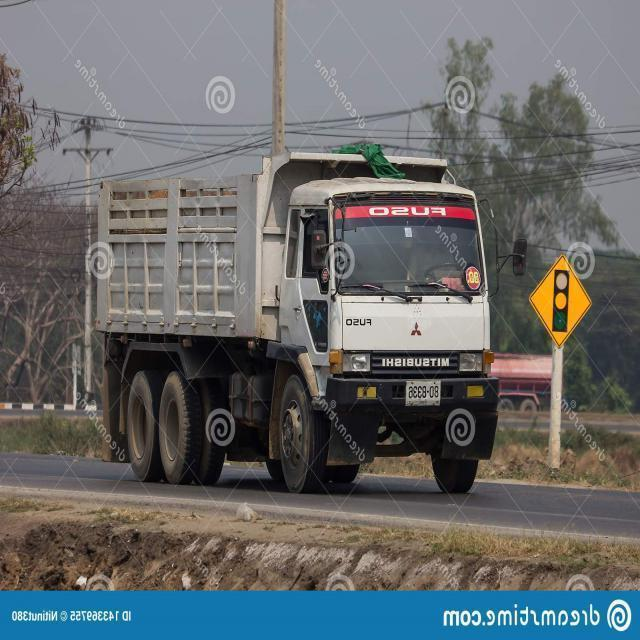truck: (95, 138, 528, 490)
